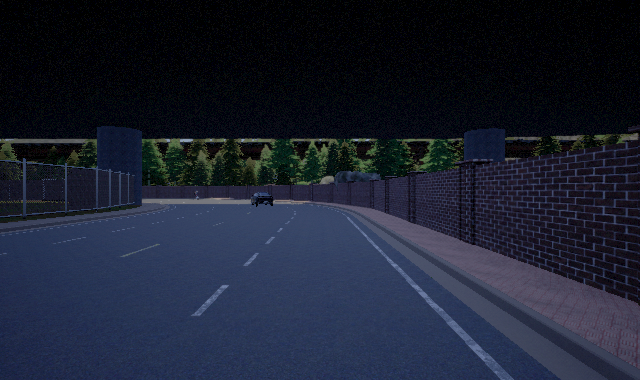vehicle: (251, 192, 273, 207)
